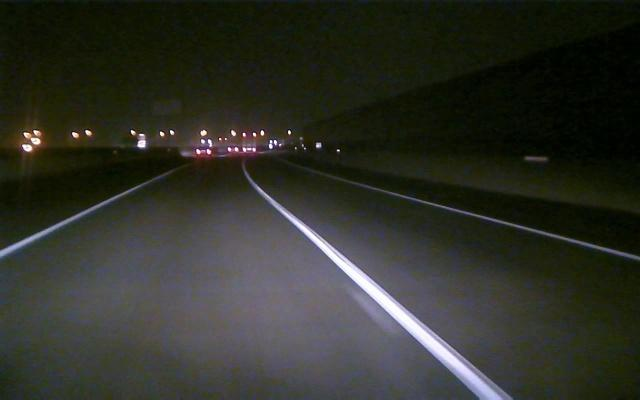lane: (253, 184, 511, 396), (345, 180, 640, 262), (2, 182, 146, 258)
